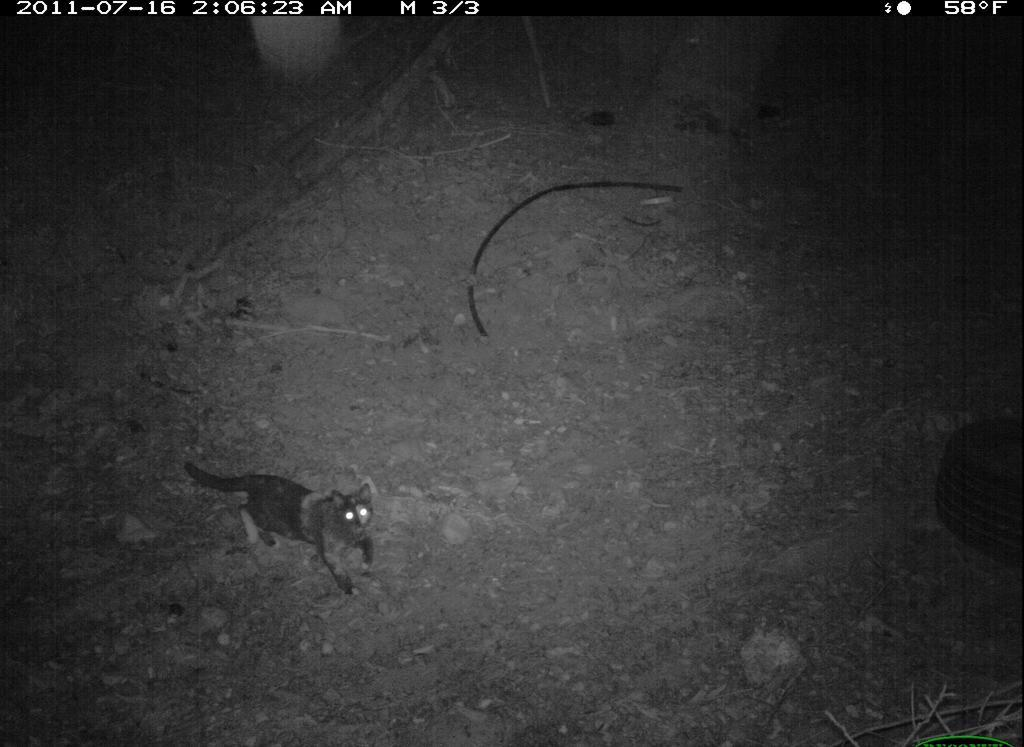cat: (177, 459, 409, 602)
